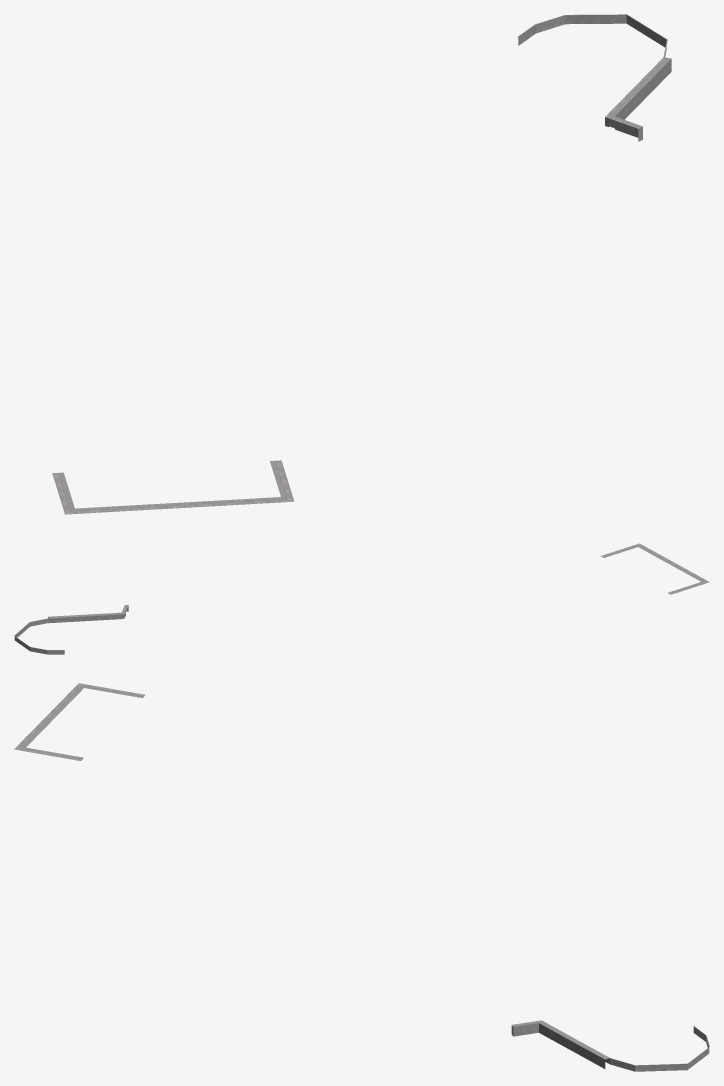
The model's file is kd_stage_135fe0_5_55.glb.
3 renders of one model, top to bottom at view 1: azimuth 30°, elevation 25°; view 2: azimuth 150°, elevation 25°; view 3: azimuth 270°, elevation 25°, orthographic. The views are drawn at different scales.
Parts seen in each view (by area): view 1: kd_stage_135fe0_5_55; view 2: kd_stage_135fe0_5_55; view 3: kd_stage_135fe0_5_55.
Part boxes in pixels (<box>): kd_stage_135fe0_5_55: <box>52,14,671,514</box>; kd_stage_135fe0_5_55: <box>14,543,709,654</box>; kd_stage_135fe0_5_55: <box>14,683,709,1071</box>.
Size of the model in its own units: 19.57 by 1.05 by 16.38.
Materials: 1 (1 with a texture image).
